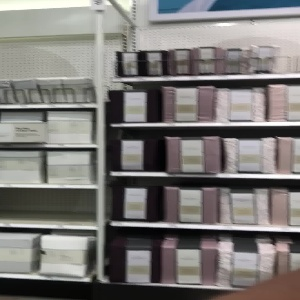void: (1, 188, 98, 227)
